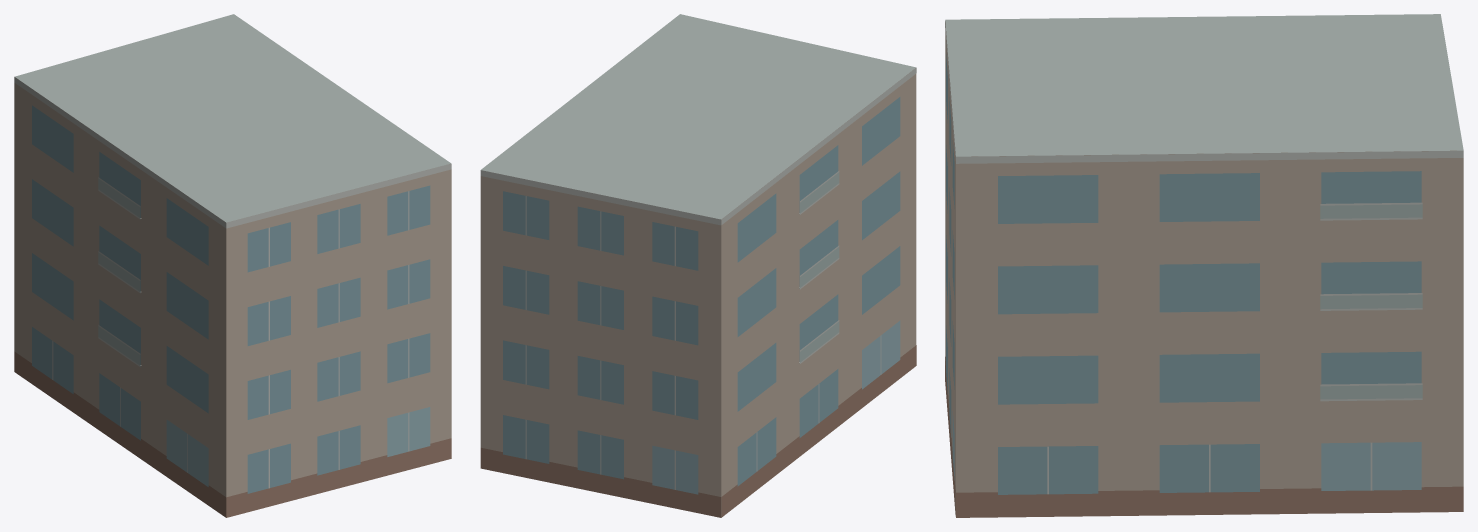
Rendered from survey-upis-32743168.glb.
The picture shows the model from 3 angles, left to right: view 1: azimuth 30°, elevation 25°; view 2: azimuth 150°, elevation 25°; view 3: azimuth 270°, elevation 25°; orthographic projection. The views are drawn at different scales.
Visible parts, largest first — view 1: survey-upis-32743168.tmp; view 2: survey-upis-32743168.tmp; view 3: survey-upis-32743168.tmp.
Boxes of the visible parts, x1,y1,x2,y2 form: survey-upis-32743168.tmp: (14, 14, 451, 517); survey-upis-32743168.tmp: (480, 14, 916, 517); survey-upis-32743168.tmp: (945, 14, 1463, 517).
Size of the model in its own units: 10.34 by 12.2 by 15.88.
